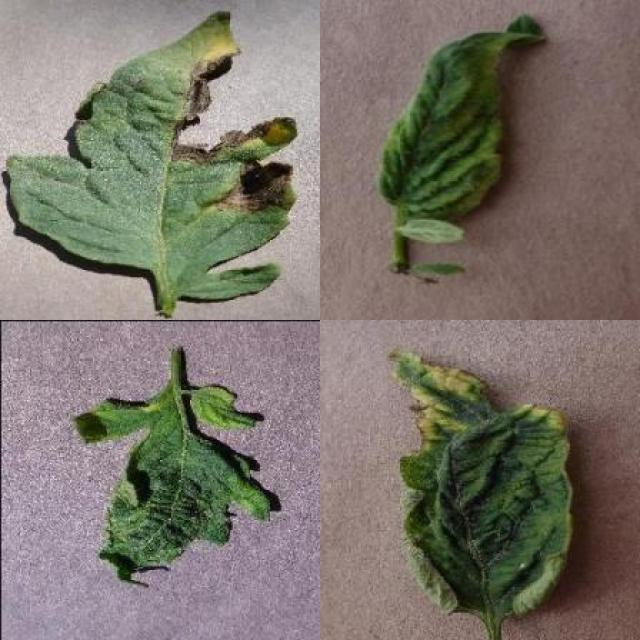Early Blight: (5, 10, 298, 303)
Mosaic Virus: (74, 383, 272, 590)
Yellow Leaf Curl Virus: (386, 346, 576, 616), (377, 13, 549, 216)
